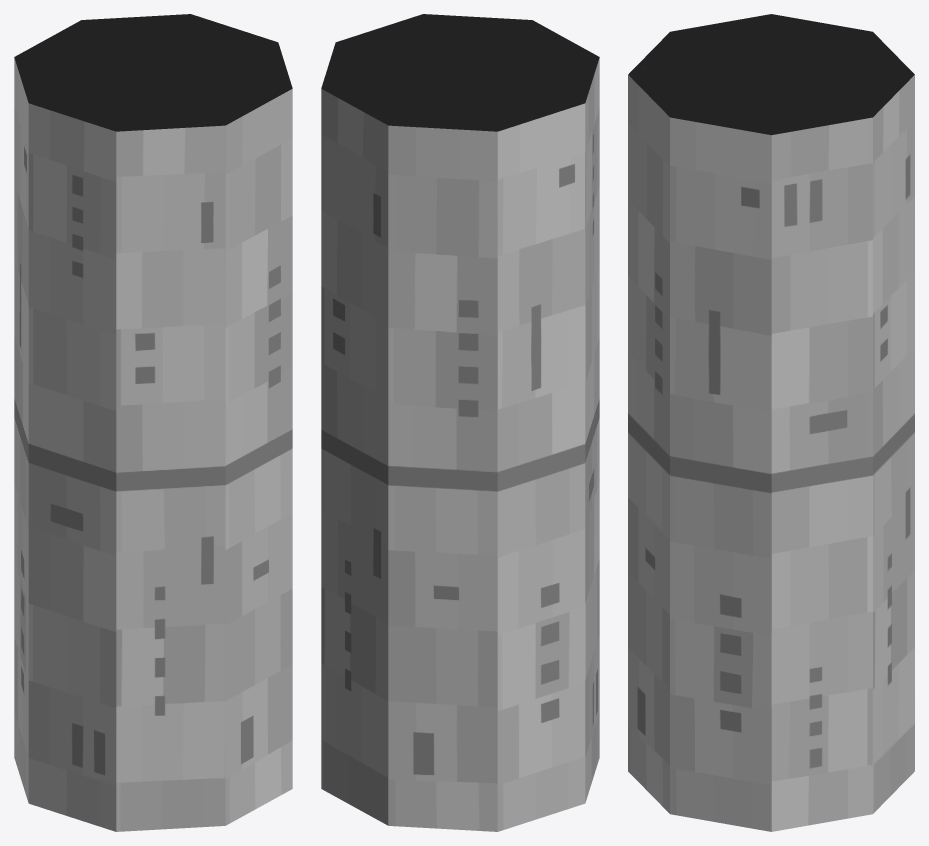
The picture shows the model from 3 angles, left to right: view 1: azimuth 30°, elevation 25°; view 2: azimuth 150°, elevation 25°; view 3: azimuth 270°, elevation 25°; orthographic projection.
Parts seen in each view (by area): view 1: tube.lp; view 2: tube.lp; view 3: tube.lp.
Boxes of the visible parts, x1=… form: tube.lp: x1=14, y1=14, x2=292, y2=831; tube.lp: x1=321, y1=14, x2=599, y2=831; tube.lp: x1=628, y1=14, x2=914, y2=831.
Bounding box in the file's own units: 369 × 990 × 369.
Materials: 1 (1 with a texture image).
